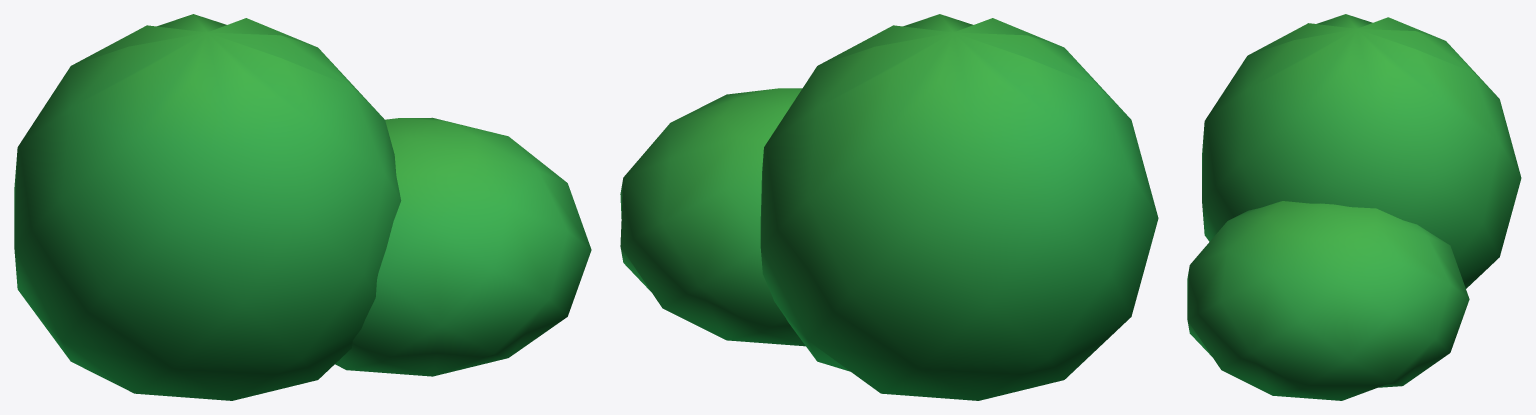
File: Bush2.fbx
The picture shows the model from 3 angles, left to right: view 1: azimuth 30°, elevation 25°; view 2: azimuth 150°, elevation 25°; view 3: azimuth 270°, elevation 25°; orthographic projection. The views are drawn at different scales.
Visible parts, largest first — view 1: Sphere.013; view 2: Sphere.013; view 3: Sphere.013.
Part boxes in pixels (left/top/right/bottom): Sphere.013: left=14, top=14, right=591, bottom=400; Sphere.013: left=620, top=14, right=1158, bottom=400; Sphere.013: left=1187, top=14, right=1521, bottom=400.
Size of the model in its own units: 289 by 182 by 203.
